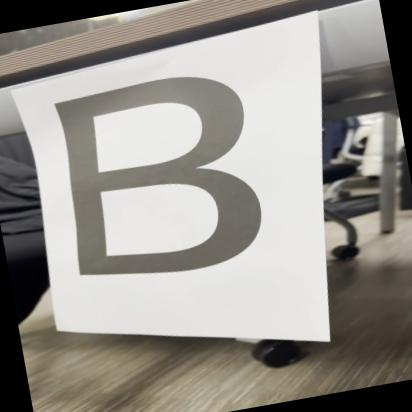seat: (30, 47, 312, 303)
